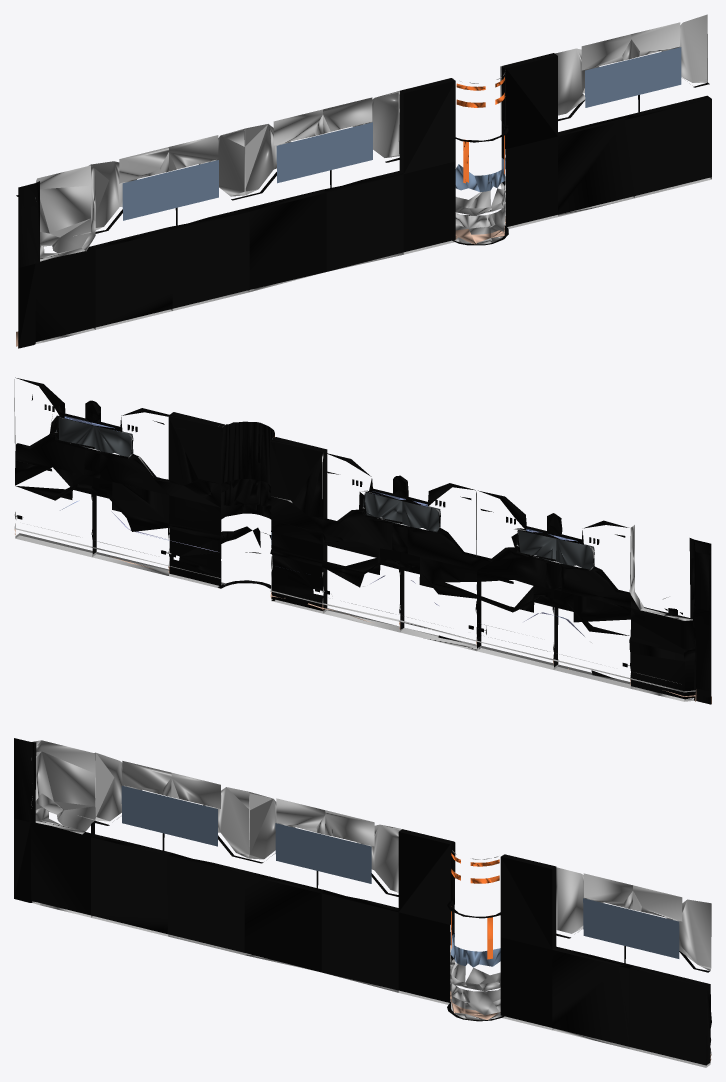
The model's file is hangar_business_v2_Wall_Xlarge_R_Bottom_01R.glb.
The picture shows the model from 3 angles, top to bottom: view 1: azimuth 30°, elevation 25°; view 2: azimuth 150°, elevation 25°; view 3: azimuth 330°, elevation 25°; orthographic projection.
Size of the model in its own units: 72.06 by 16.08 by 3.2.
